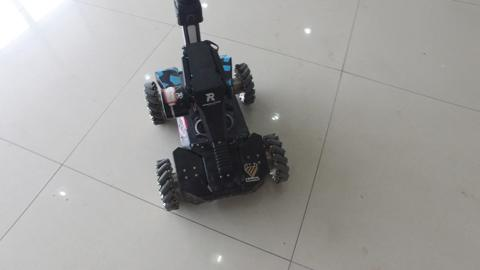chariot: (120, 14, 293, 207)
